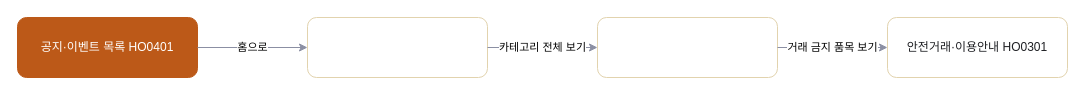
The diagram is 1085 pixels wide and 95 high, and some of its shapes have lost their labels. Each missing label, with the centre of its shape:
"카테고리 전체 보기 HO0201" belongs at [687,47].
"홈 HO0101" belongs at [397,47].
